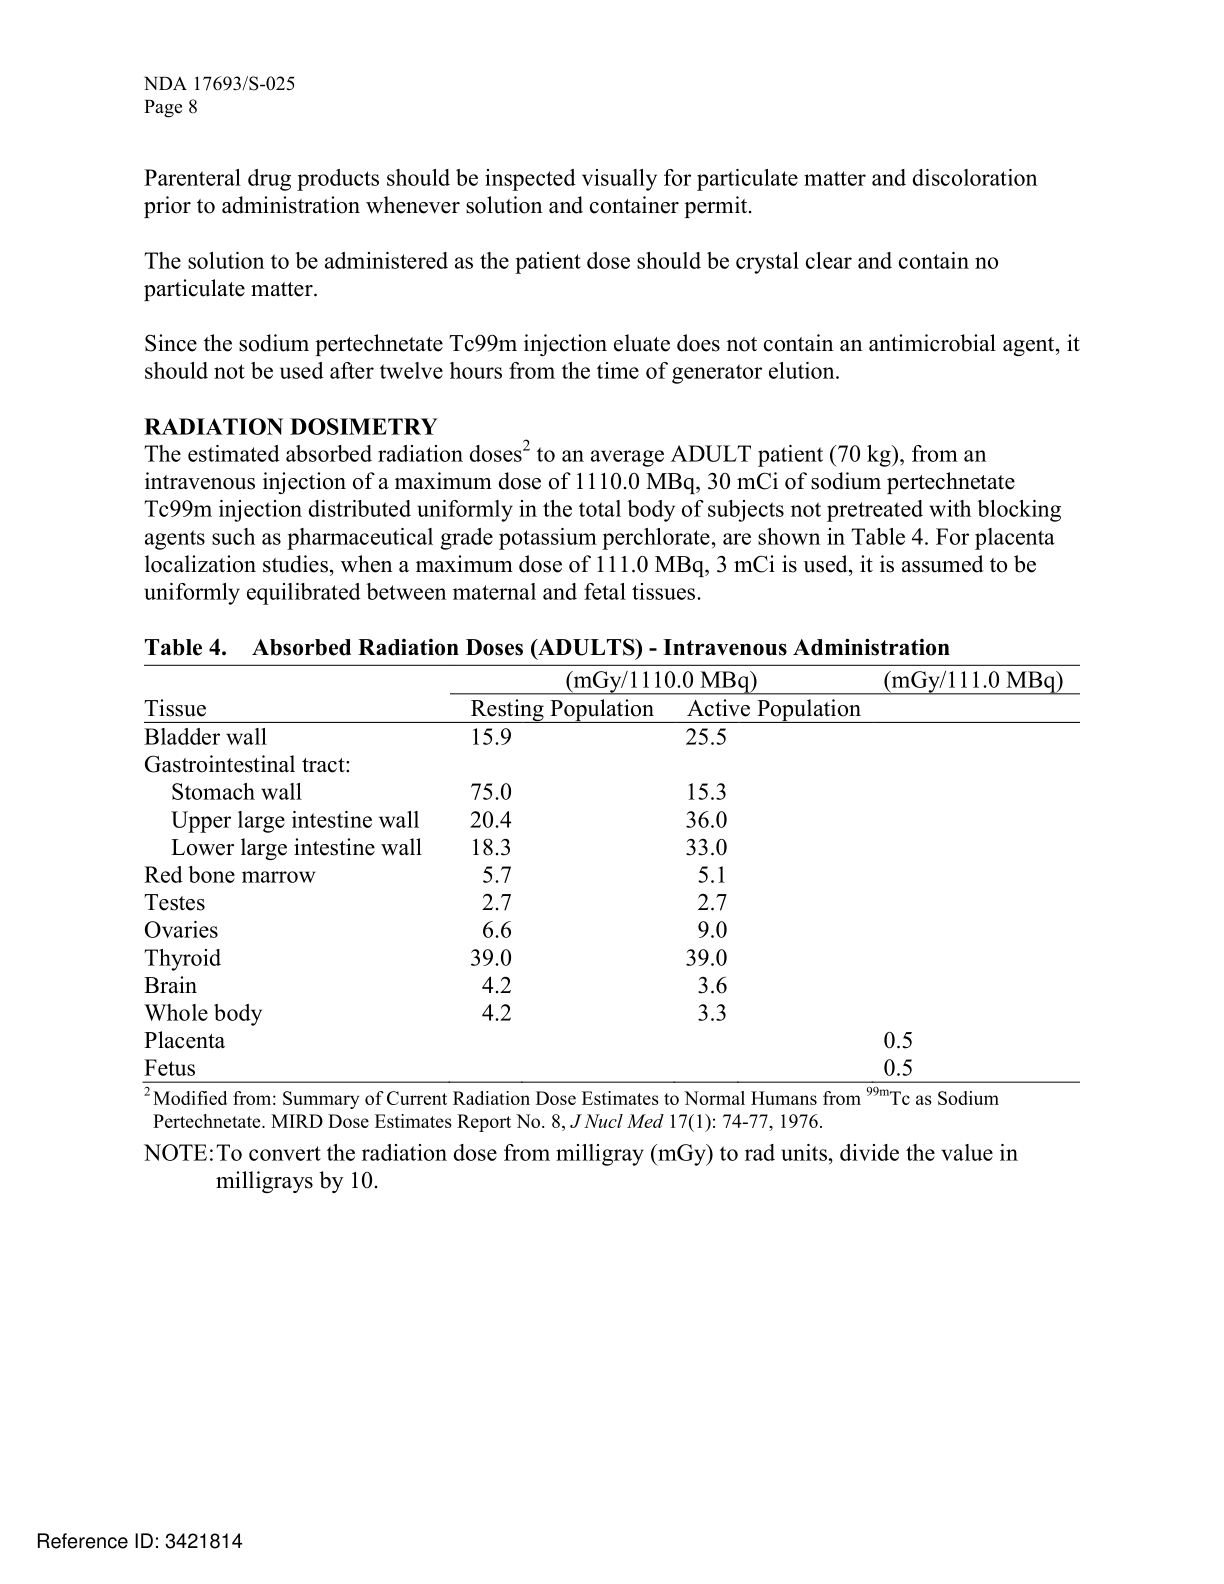partial_lined_merged_cells: (141, 663, 1083, 1084)
